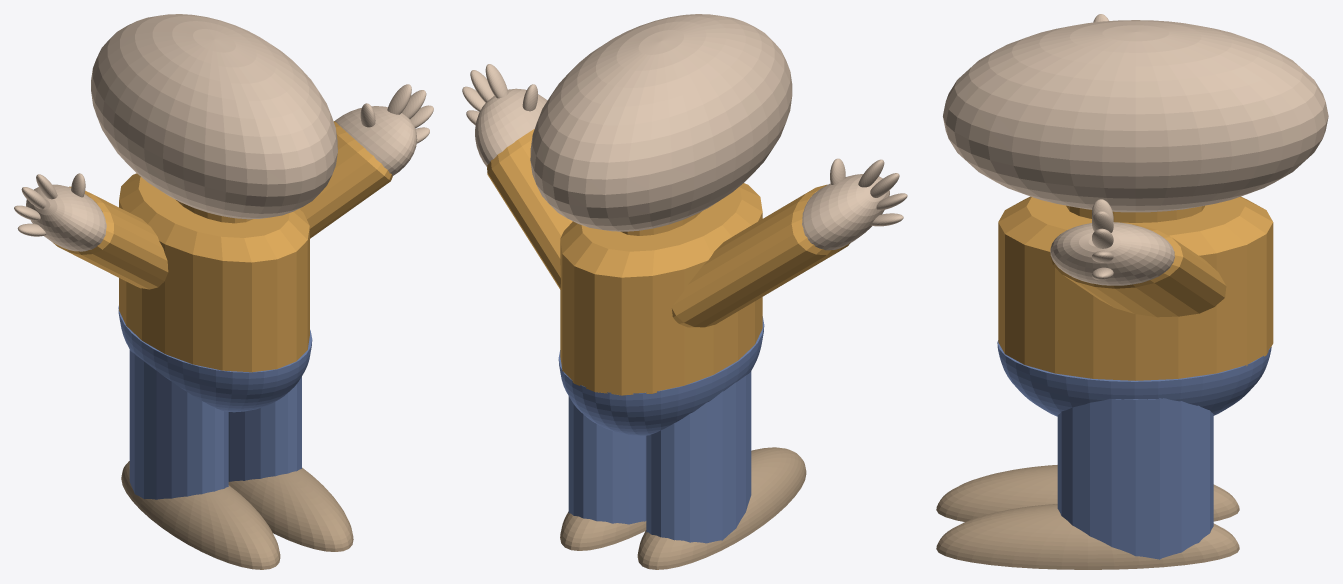
3 renders of one model, left to right at view 1: azimuth 30°, elevation 25°; view 2: azimuth 150°, elevation 25°; view 3: azimuth 270°, elevation 25°, orthographic. The views are drawn at different scales.
Visible parts, largest first — view 1: Mesh_Mesh_head_geo.001_lambert2SG.001; view 2: Mesh_Mesh_head_geo.001_lambert2SG.001; view 3: Mesh_Mesh_head_geo.001_lambert2SG.001.
Boxes of the visible parts, <box> form: Mesh_Mesh_head_geo.001_lambert2SG.001: <box>14,14,433,569</box>; Mesh_Mesh_head_geo.001_lambert2SG.001: <box>462,14,907,569</box>; Mesh_Mesh_head_geo.001_lambert2SG.001: <box>936,14,1328,569</box>.
Bounding box in the file's own units: 0.079 × 0.082 × 0.0587.
